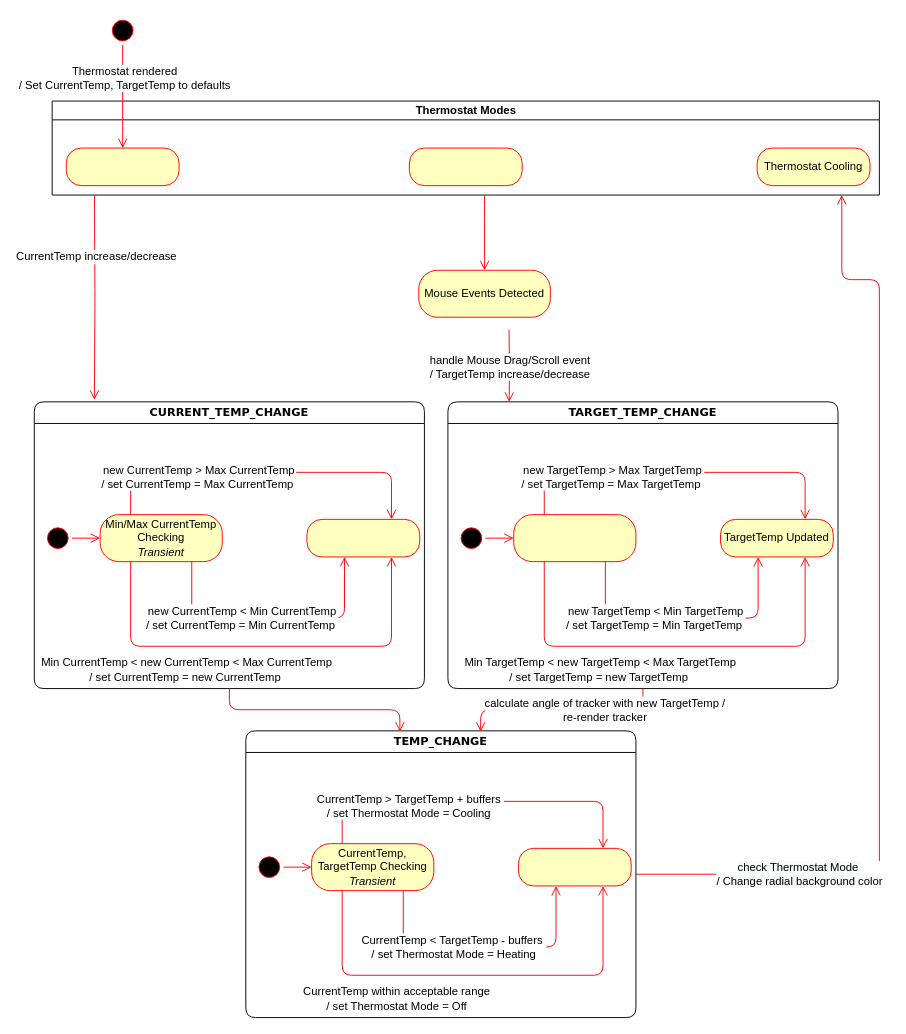
This 906x1034 diagram has some shape labels left out. Each missing label, with the centre of its shape:
CurrentTemp Updated: [363,537]
Min/Max TargetTemp Checking Transient: [574,538]
Thermostat Heating: [465,166]
Thermostat Mode Updated: [574,866]
Thermostat Off: [122,166]
